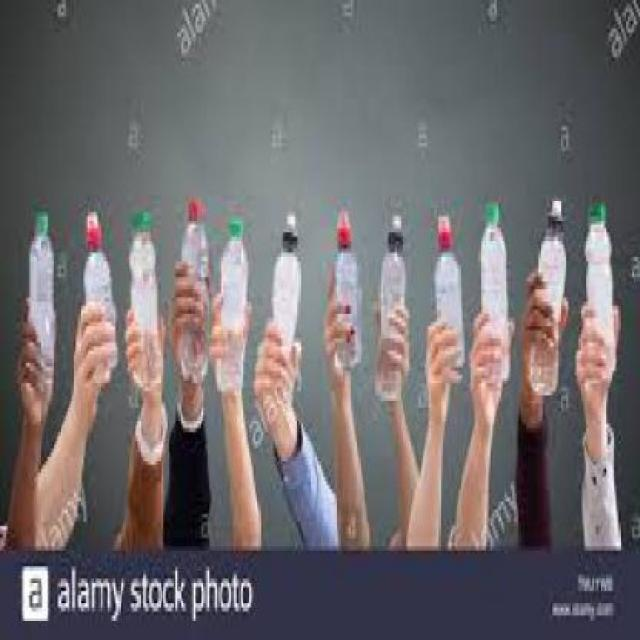Drinking: (24, 195, 65, 412), (578, 188, 620, 383), (476, 188, 510, 388), (126, 204, 162, 379), (327, 216, 362, 392), (225, 212, 248, 412)
